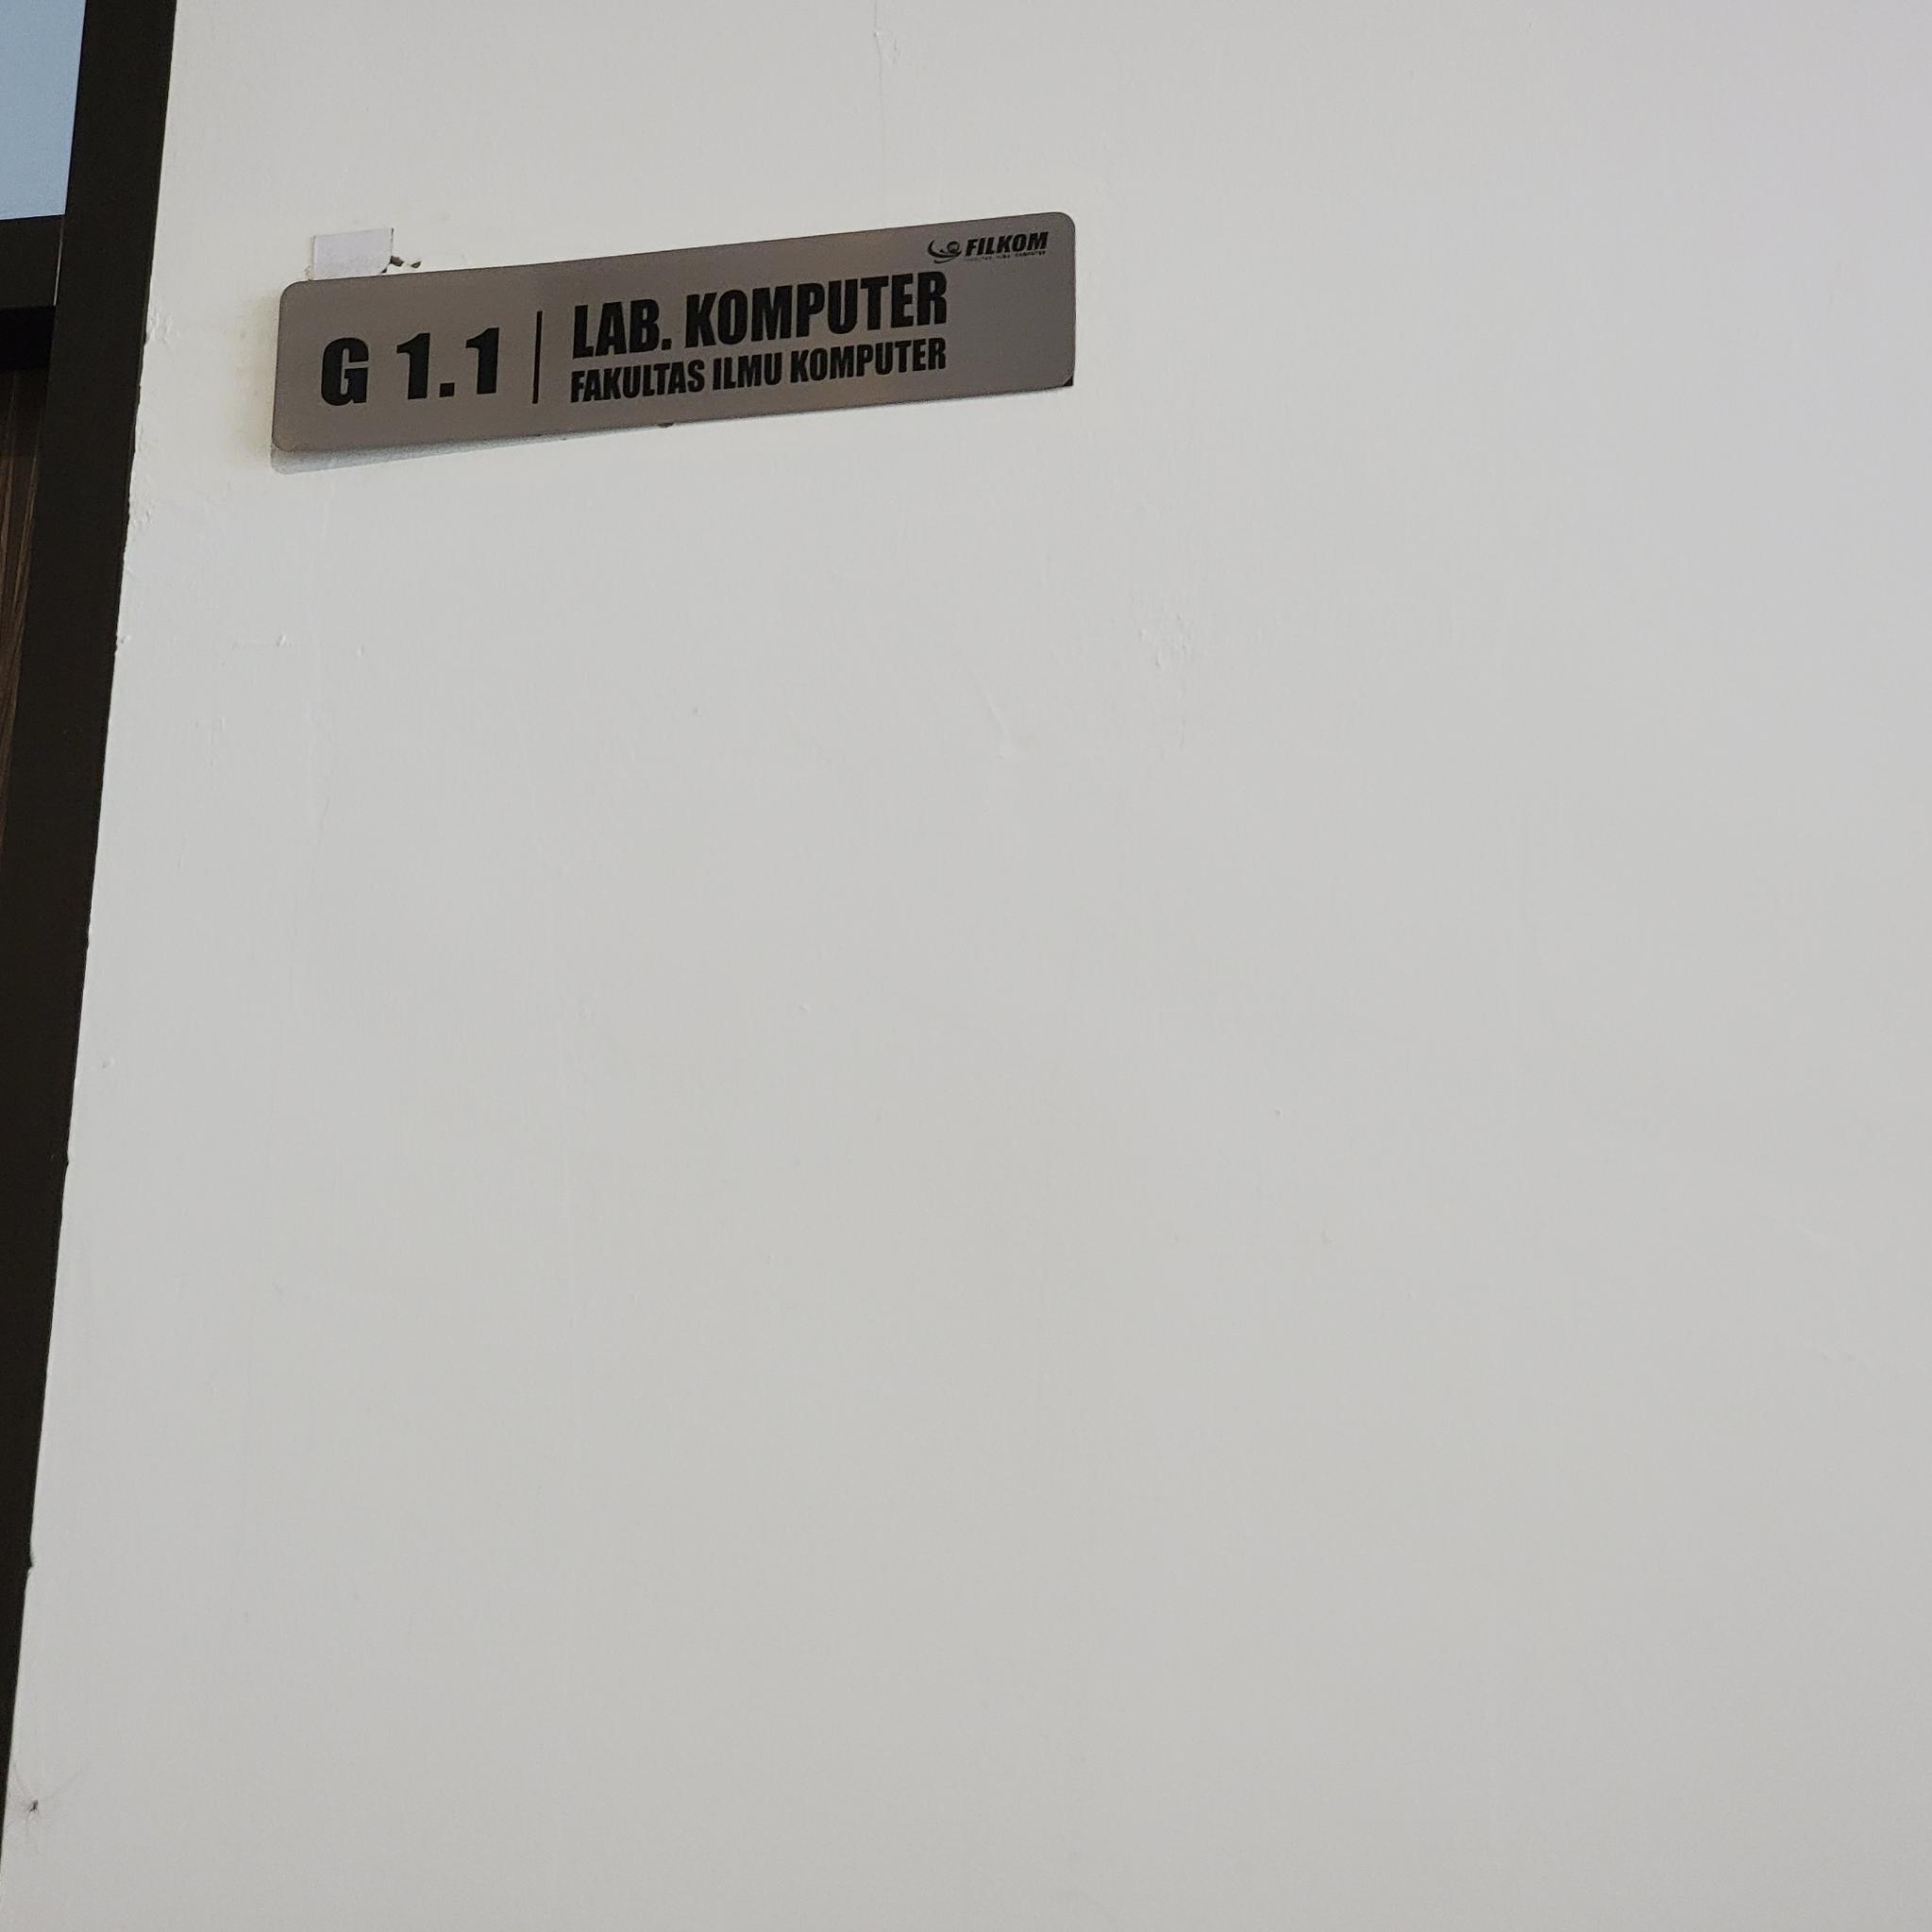plate: (269, 205, 1077, 460)
